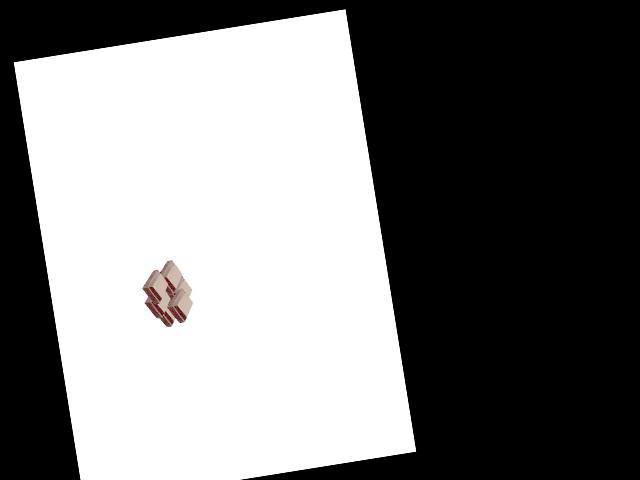chocolate: (140, 257, 199, 331)
